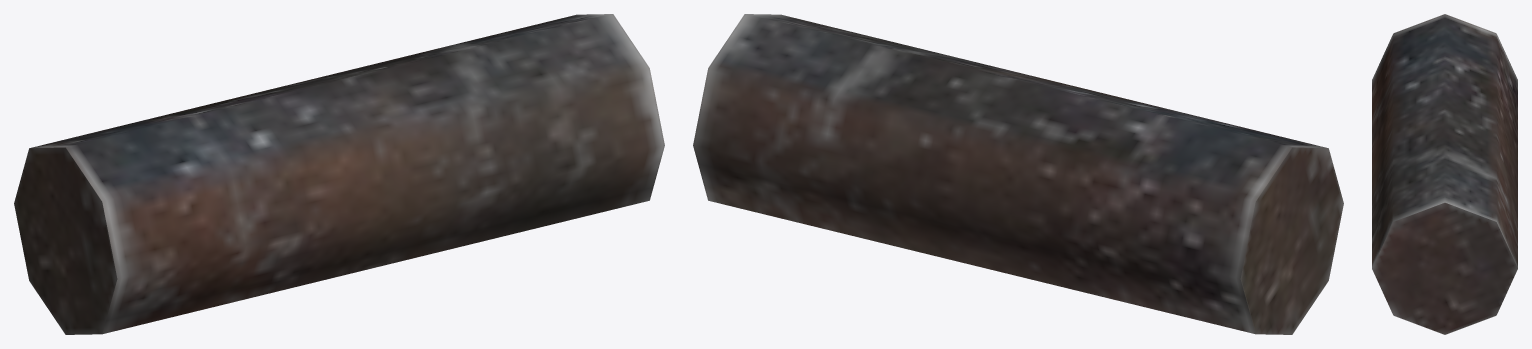
File: NM_ThinTube_MonoHolder_02.fbx
3 renders of one model, left to right at view 1: azimuth 30°, elevation 25°; view 2: azimuth 150°, elevation 25°; view 3: azimuth 270°, elevation 25°, orthographic. The views are drawn at different scales.
Parts seen in each view (by area): view 1: Tube_MonoHolder02_low; view 2: Tube_MonoHolder02_low; view 3: Tube_MonoHolder02_low.
Boxes of the visible parts, <box> form: Tube_MonoHolder02_low: <box>14,14,664,334</box>; Tube_MonoHolder02_low: <box>693,14,1343,334</box>; Tube_MonoHolder02_low: <box>1372,14,1517,334</box>.
Bounding box in the file's own units: 14.9 × 4.87 × 4.87.
